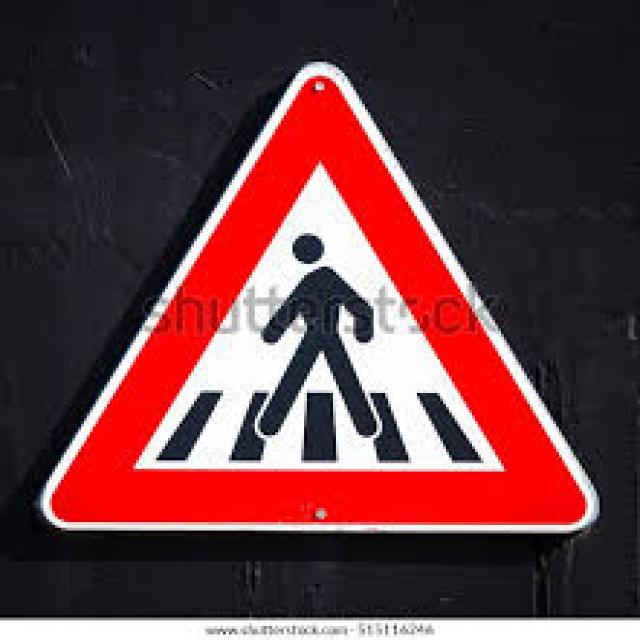Attention-Passage-Pieton: (64, 66, 576, 514)
